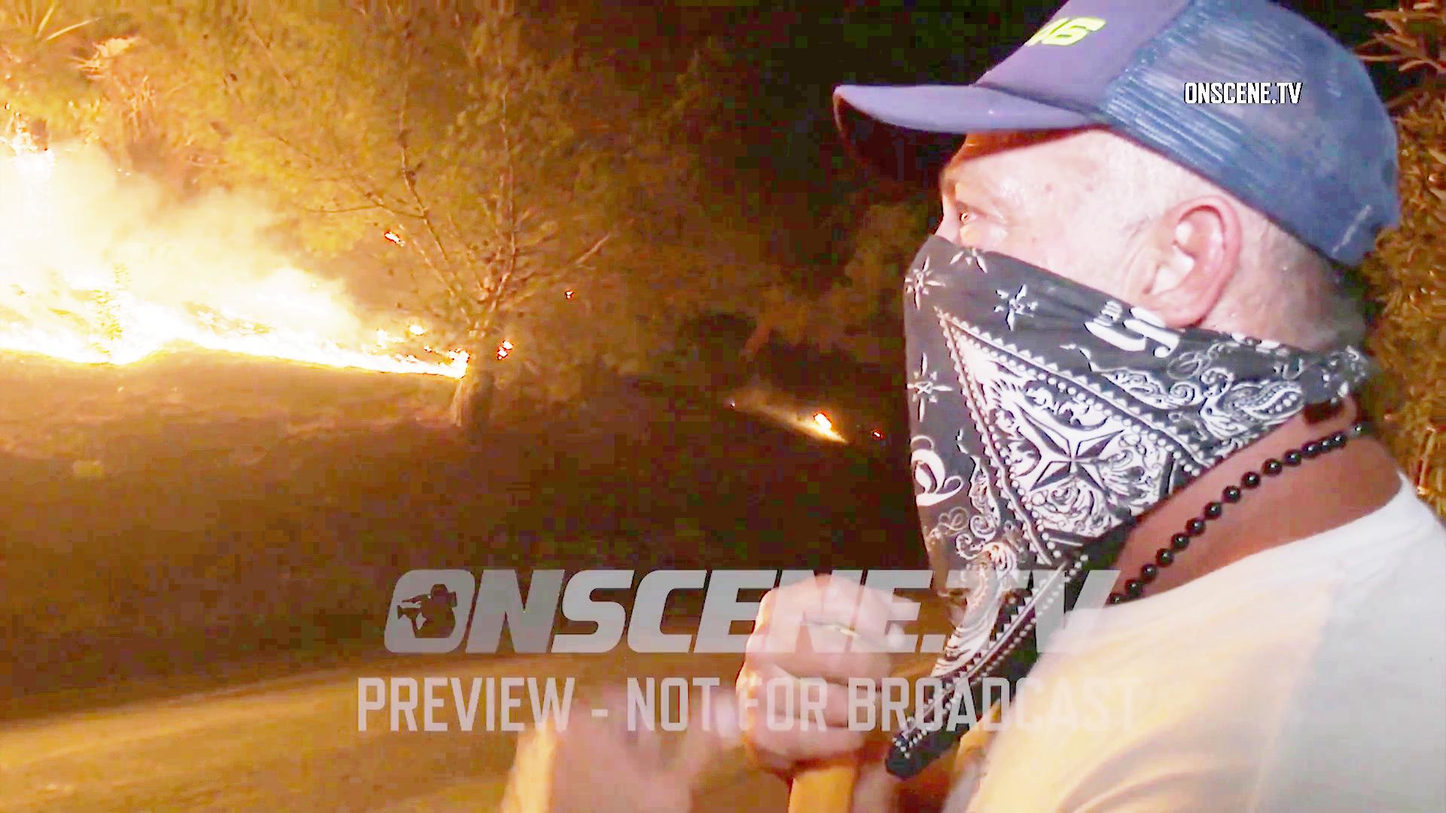fire: (103, 294, 464, 379)
